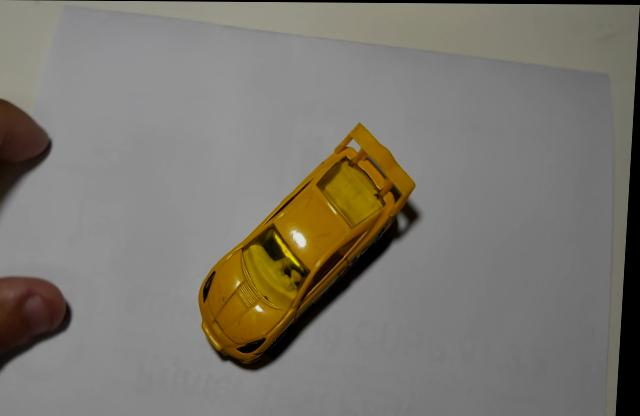07_RHLTURBO: (201, 124, 417, 371)
